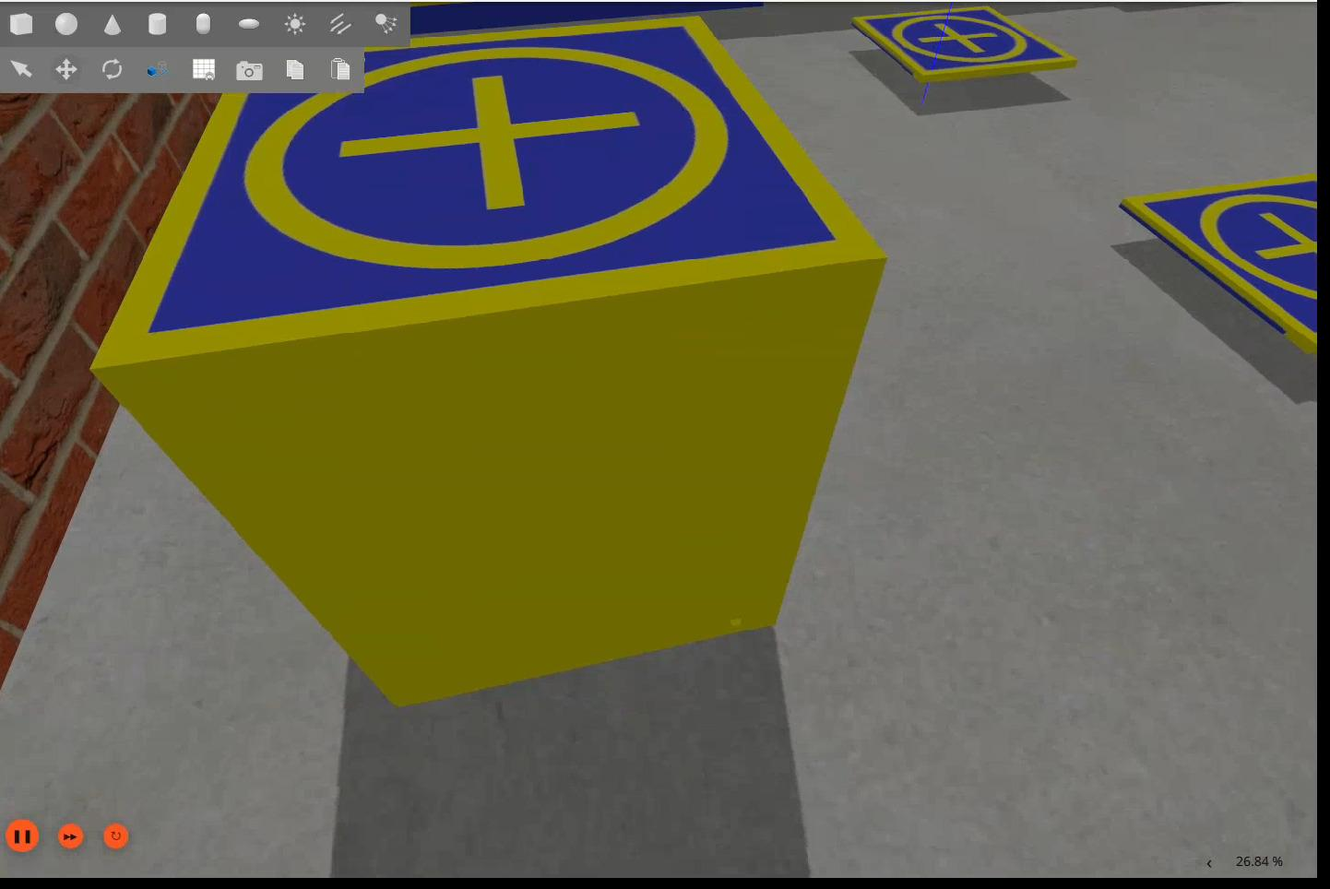small_base: (87, 15, 890, 373), (1120, 176, 1321, 357), (854, 6, 1079, 87)
